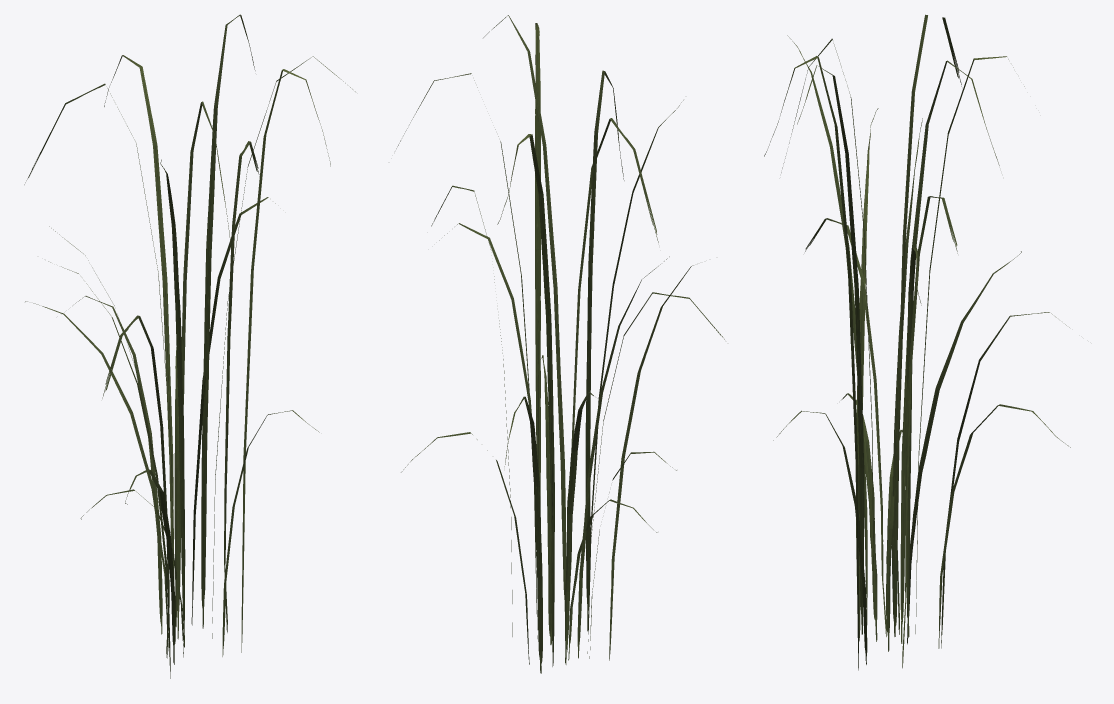
The model's file is wild_upright_b.glb.
3 renders of one model, left to right at view 1: azimuth 30°, elevation 25°; view 2: azimuth 150°, elevation 25°; view 3: azimuth 270°, elevation 25°, orthographic. The views are drawn at different scales.
Parts seen in each view (by area): view 1: wild_upright_b; view 2: wild_upright_b; view 3: wild_upright_b.
Part boxes in pixels (x1,y1,x2,y2): wild_upright_b: [24, 14, 355, 678]; wild_upright_b: [396, 15, 724, 673]; wild_upright_b: [764, 14, 1070, 670].
Bounding box in the file's own units: 0.2317 × 0.4744 × 0.2238.
1 material, 1 textured.
